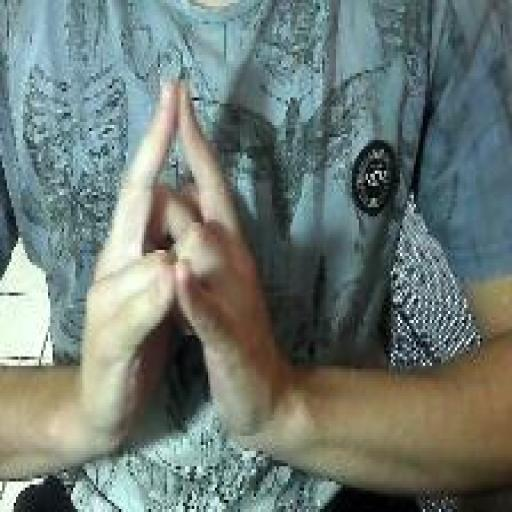Tori -bird-: (78, 74, 281, 458)
